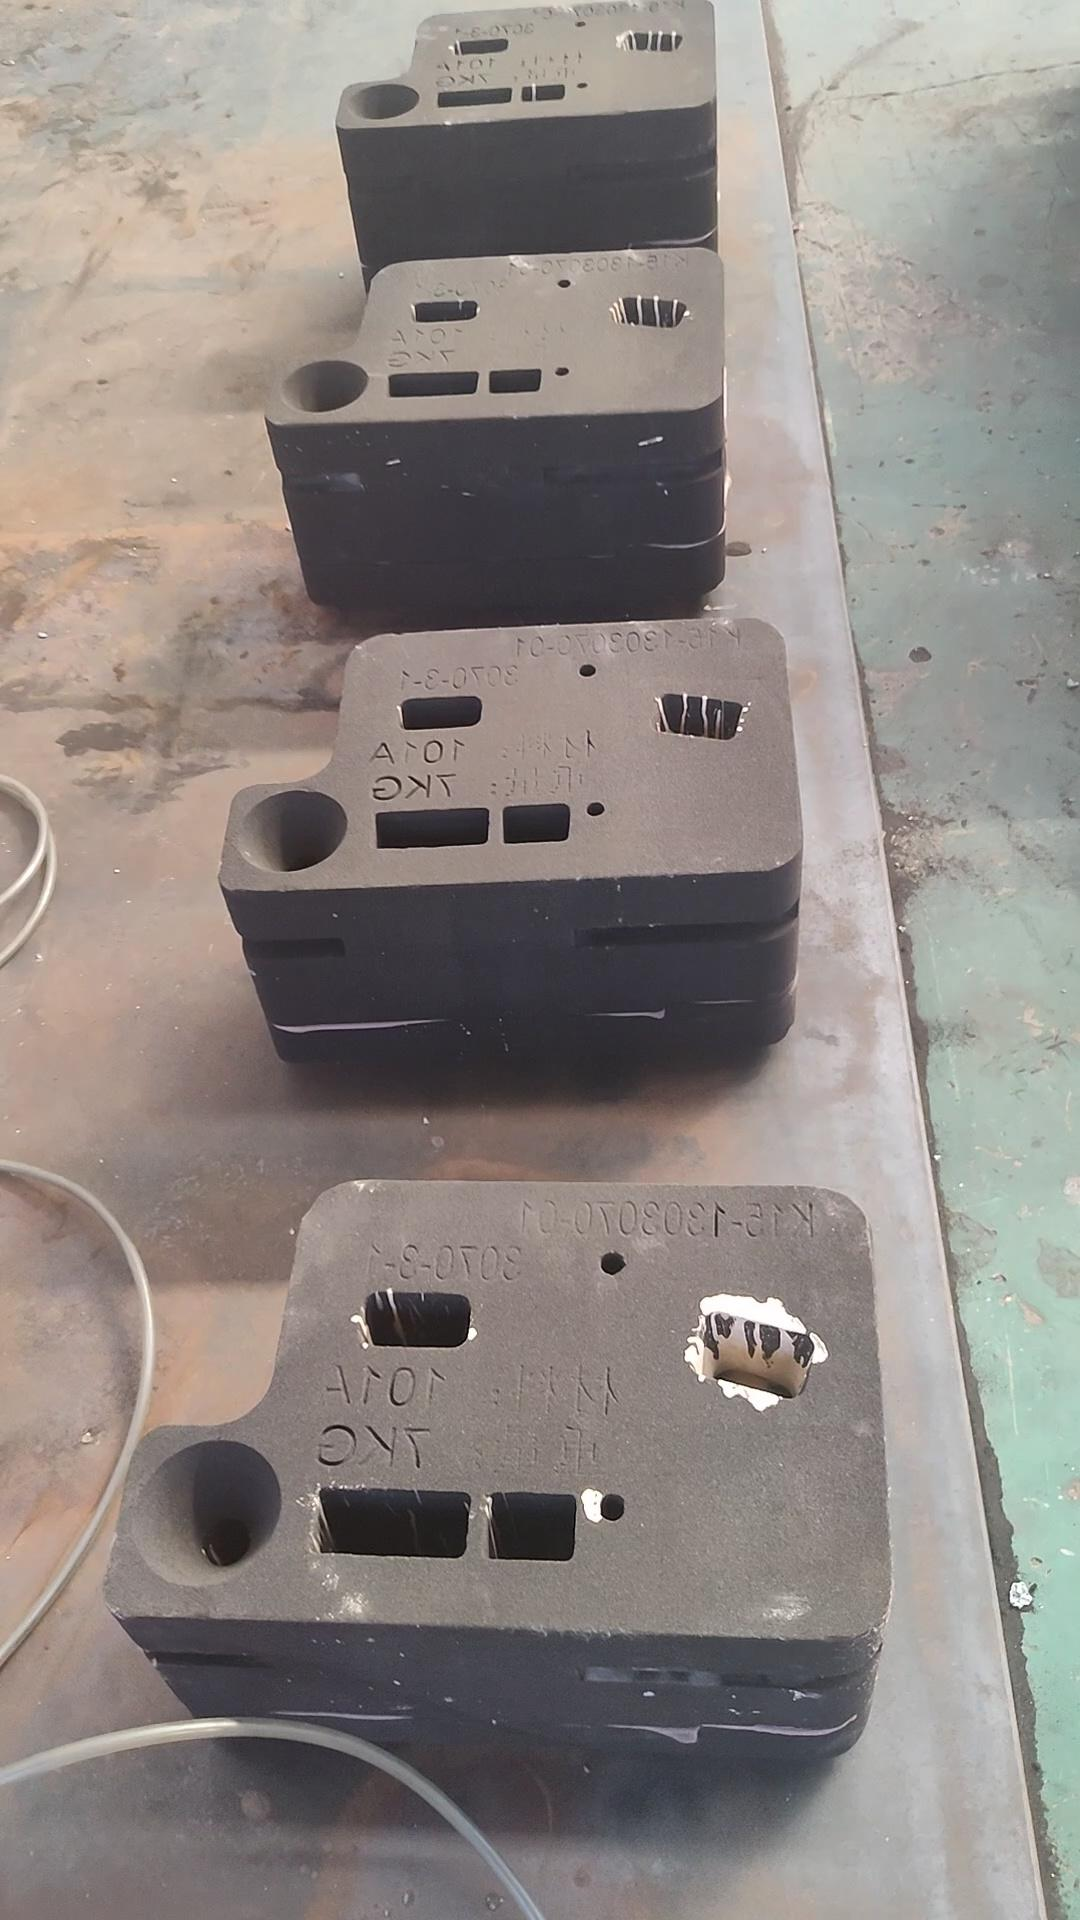pouring hole: (131, 1439, 282, 1585), (233, 789, 349, 872), (280, 360, 368, 411), (349, 83, 419, 119)
